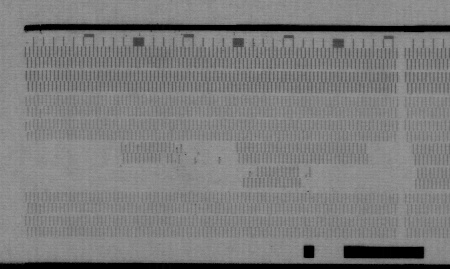Broken hole: (18, 162, 259, 196), (24, 140, 123, 196), (296, 163, 420, 195), (182, 140, 241, 165), (364, 141, 417, 165), (158, 152, 183, 167)
Oblique printing: (172, 140, 183, 155)
